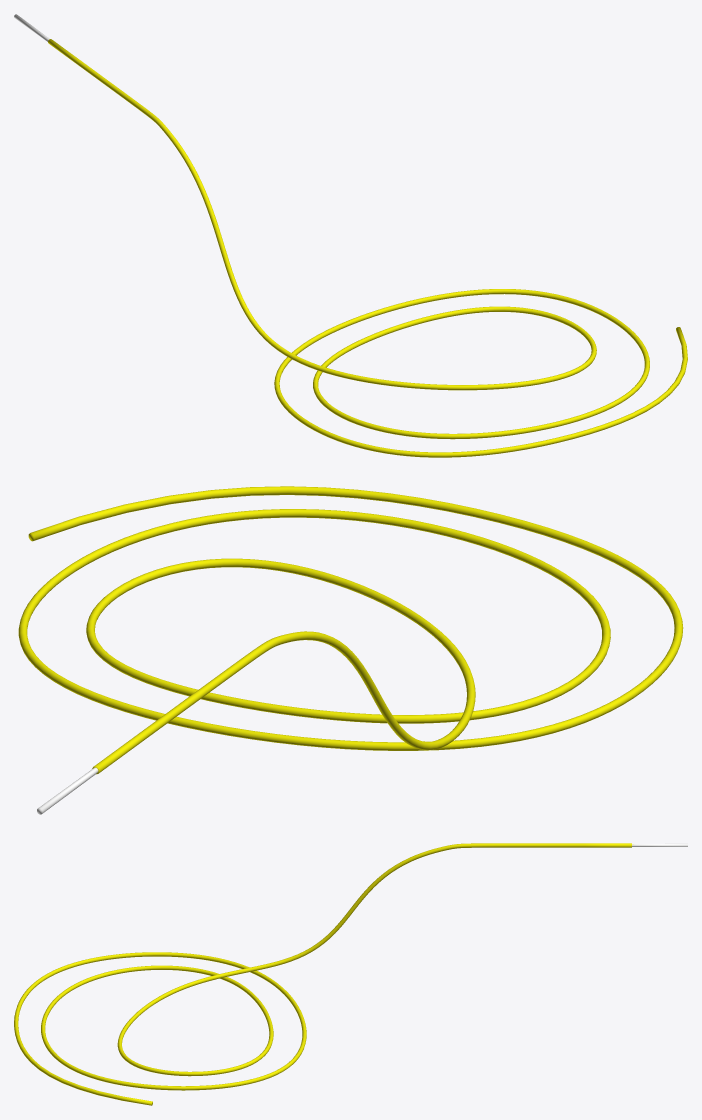
Rendered from kabel terkelupas masuk cleaver.fbx.
3 views of the same model, one above another, from view 1: azimuth 30°, elevation 25°; view 2: azimuth 150°, elevation 25°; view 3: azimuth 270°, elevation 25° (orthographic). The views are drawn at different scales.
Visible parts, largest first — view 1: NurbsPath; view 2: NurbsPath, kabel terkelupas masuk cleaver.001; view 3: NurbsPath.
Part boxes in pixels (left/top/right/bottom): NurbsPath: left=48, top=39, right=687, bottom=457; NurbsPath: left=18, top=486, right=683, bottom=774; kabel terkelupas masuk cleaver.001: left=37, top=767, right=98, bottom=814; NurbsPath: left=14, top=843, right=631, bottom=1105.
Bounding box in the file's own units: 10.38 × 4.14 × 19.57.
2 materials, 2 textured.
